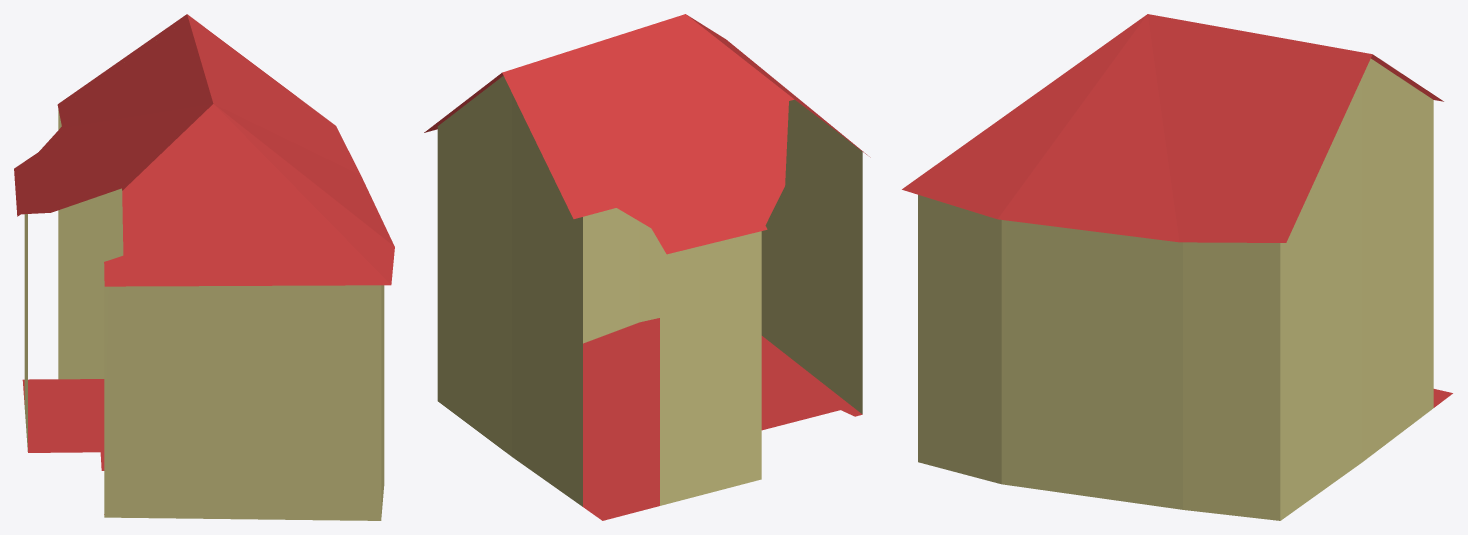
The picture shows the model from 3 angles, left to right: view 1: azimuth 30°, elevation 25°; view 2: azimuth 150°, elevation 25°; view 3: azimuth 270°, elevation 25°; orthographic projection. The views are drawn at different scales.
Bounding box in the file's own units: 17.67 × 22.79 × 18.72.
